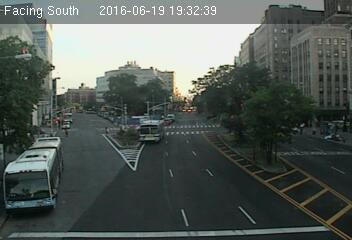neg: (11, 98, 38, 135), (224, 81, 250, 116), (78, 46, 100, 74), (257, 102, 278, 130), (270, 31, 290, 58), (126, 54, 146, 80), (296, 83, 316, 109), (292, 130, 312, 156), (123, 142, 142, 167), (51, 161, 70, 186), (195, 163, 214, 188), (237, 164, 256, 188), (137, 110, 155, 134), (269, 156, 287, 180), (122, 191, 140, 215), (191, 62, 208, 85), (92, 151, 109, 173), (39, 58, 53, 77), (169, 189, 182, 206)
